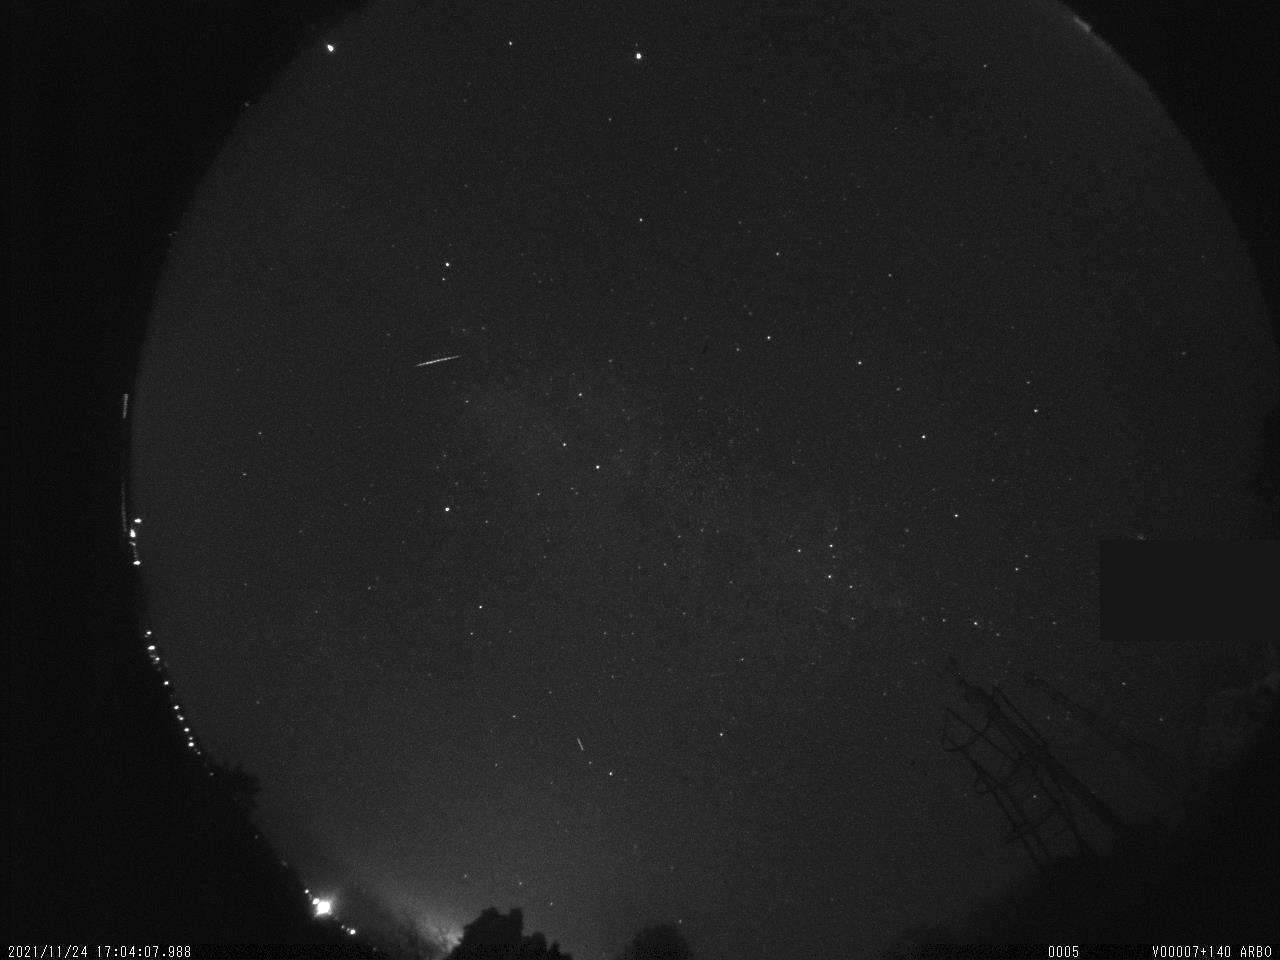Meteor: (414, 352, 460, 368)
